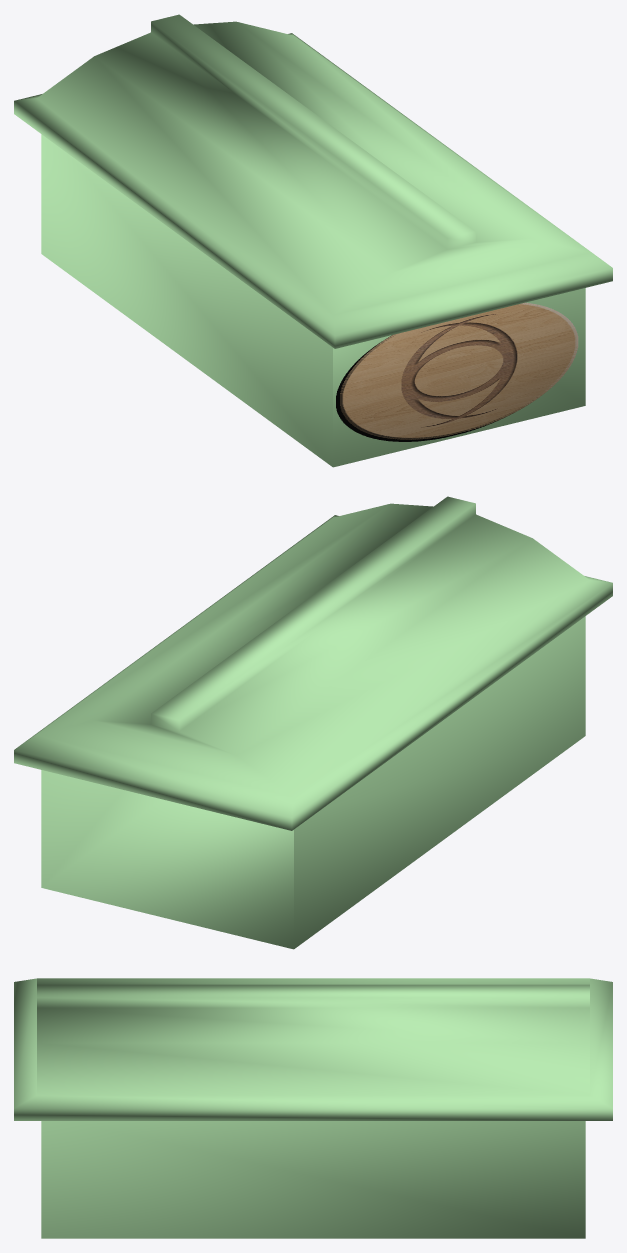
The model's file is Tomb.fbx.
3 views of the same model, one above another, from view 1: azimuth 30°, elevation 25°; view 2: azimuth 150°, elevation 25°; view 3: azimuth 270°, elevation 25° (orthographic). The views are drawn at different scales.
Parts seen in each view (by area): view 1: Tomb; view 2: Tomb; view 3: Tomb.
Boxes of the visible parts, x1,y1,x2,y2 form: Tomb: (14,14,612,467); Tomb: (14,496,612,949); Tomb: (14,978,612,1238).
Bounding box in the file's own units: 2.2 × 1.54 × 4.4.
